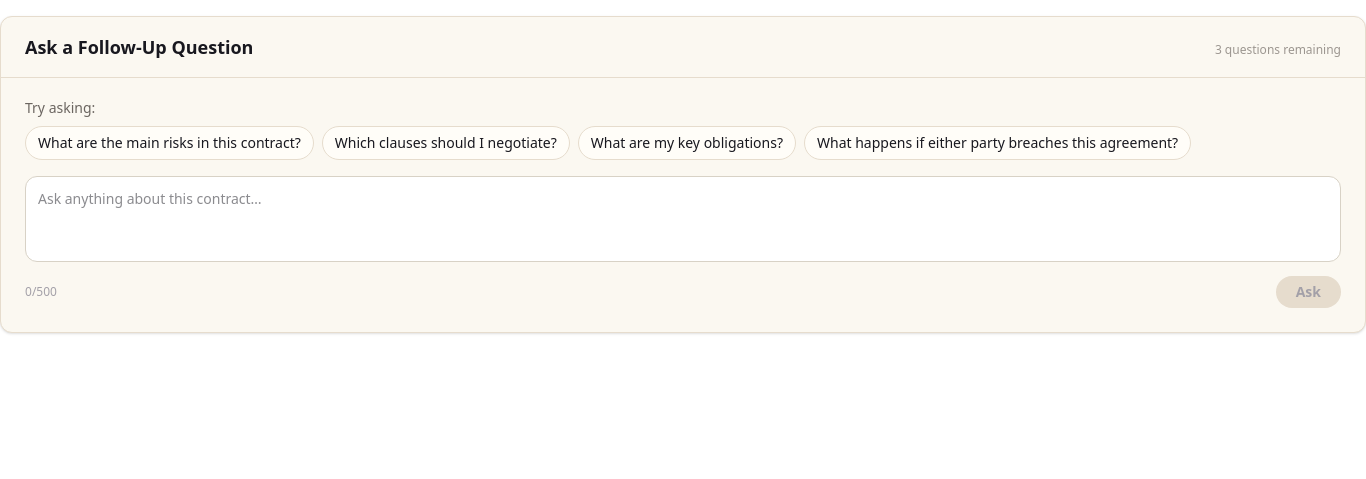
Test: FollowUpInput › renders inline clause references as compact chips
The width and height of the screenshot is (1366, 479).
Type "What happens if I break the NDA?" into the text box named "Follow-up question" at (683, 219), box [25,176,1341,262]
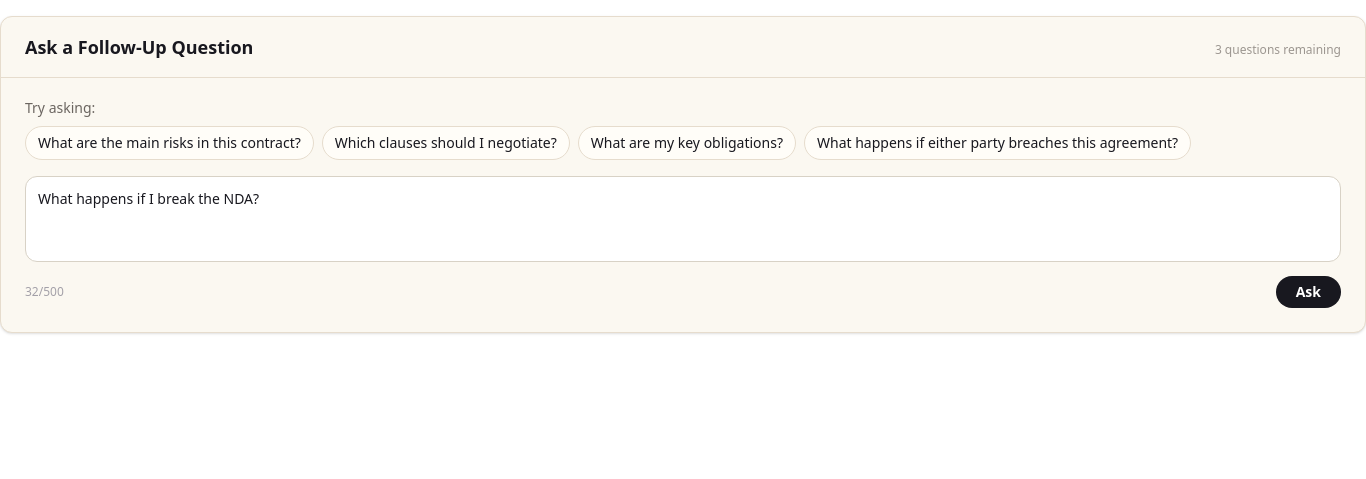
Click the button "Ask" at (1308, 292), box [1276,276,1341,308]
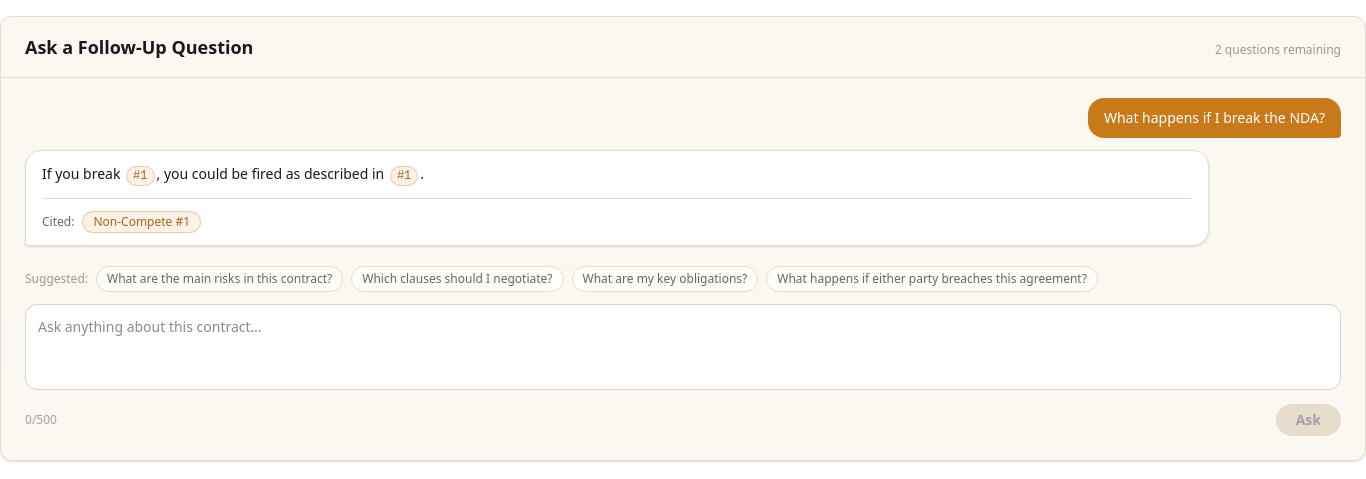
Result: the number of buttons "#1" is 2 at [126,166,154,186]; [390,166,418,186]
